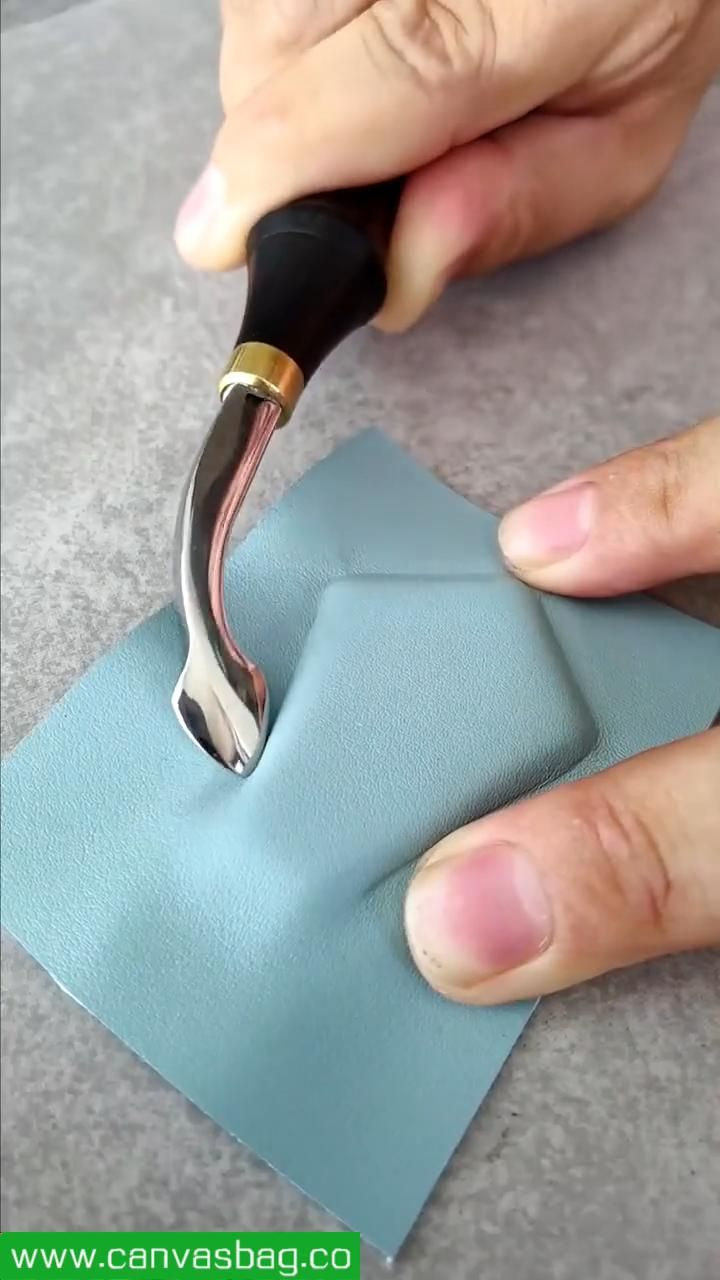cuero: (3, 419, 720, 1263)
